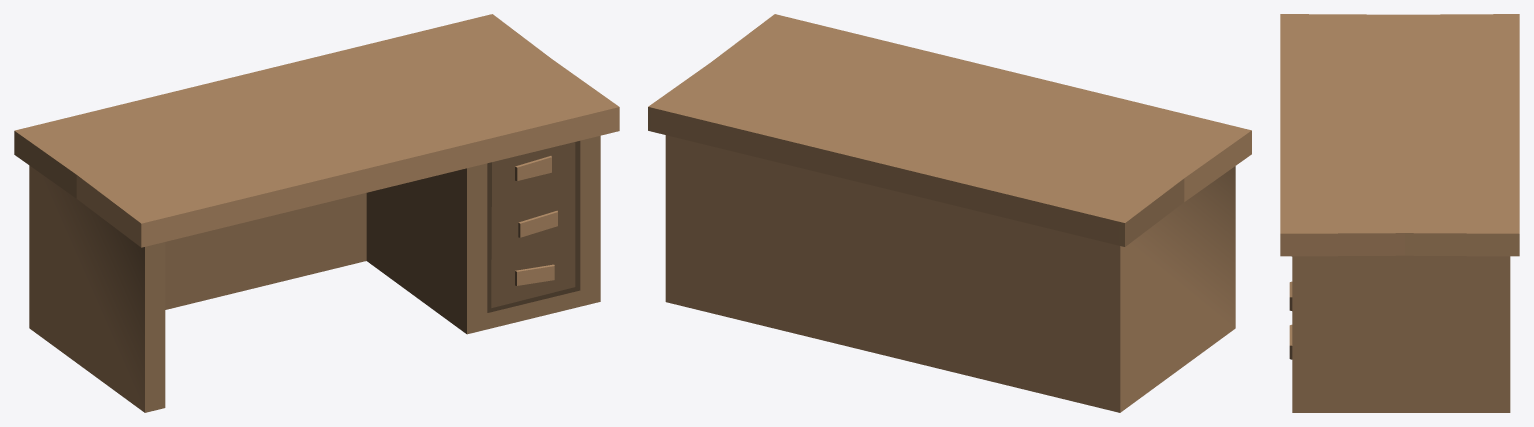
Rendered from MSH_QuestObject_table_03.fbx.
3 renders of one model, left to right at view 1: azimuth 30°, elevation 25°; view 2: azimuth 150°, elevation 25°; view 3: azimuth 270°, elevation 25°, orthographic. The views are drawn at different scales.
Parts seen in each view (by area): view 1: MSH_QuestObject_table_03; view 2: MSH_QuestObject_table_03; view 3: MSH_QuestObject_table_03.
Part boxes in pixels (box(x1,y1,x2,y2)): MSH_QuestObject_table_03: box(14, 14, 619, 412); MSH_QuestObject_table_03: box(648, 14, 1251, 412); MSH_QuestObject_table_03: box(1280, 14, 1519, 412).
Bounding box in the file's own units: 3.67 × 1.44 × 1.69.
